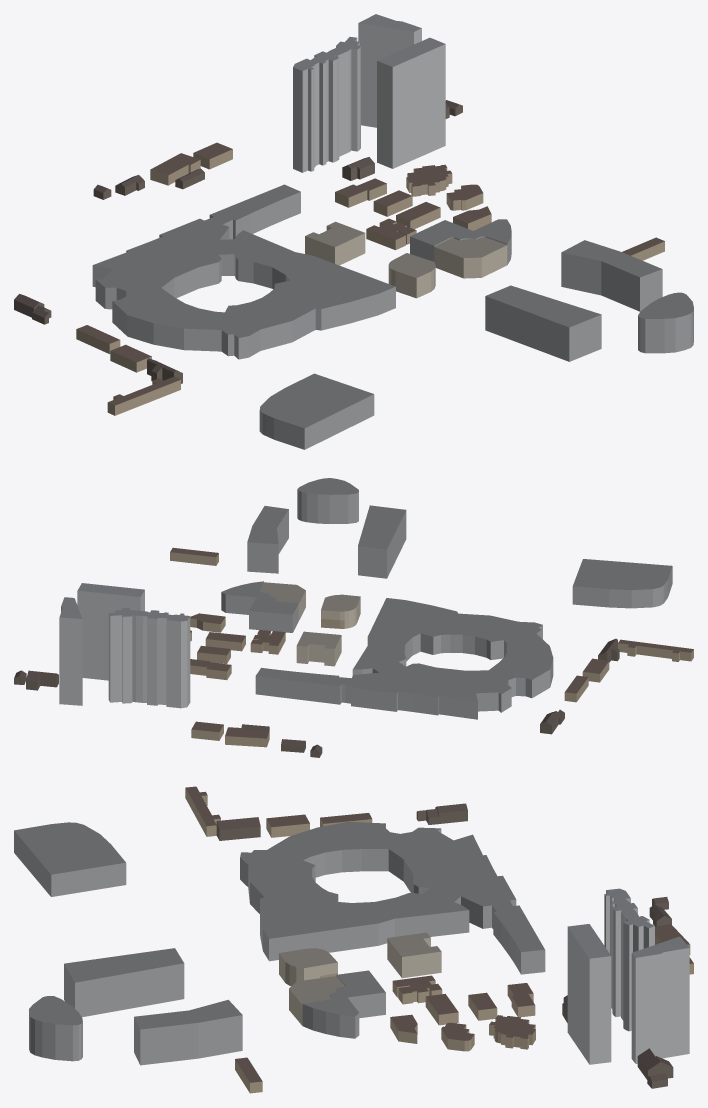
File: tile_2_3.glb
The picture shows the model from 3 angles, top to bottom: view 1: azimuth 30°, elevation 25°; view 2: azimuth 150°, elevation 25°; view 3: azimuth 270°, elevation 25°; orthographic projection. The views are drawn at different scales.
Parts seen in each view (by area): view 1: HP-r3920128, HP-w293397505, HP-w293397479, HP-w1209934029, HP-w293829715, HP-w1209934030, HP-w293398949, HP-w293414346, HP-w293023993, HP-w293397519, HP-w293397518, HP-w293397502 (+12 smaller); view 2: HP-r3920128, HP-w293397479, HP-w293829715, HP-w293397505, HP-w1209934029, HP-w293023993, HP-w293397518, HP-w293414346, HP-w1209934030, HP-w293397502, HP-w293398949, HP-w293397520 (+13 smaller); view 3: HP-r3920128, HP-w293414346, HP-w1209934029, HP-w293829715, HP-w293397505, HP-w1209934030, HP-w293398949, HP-w293397479, HP-w293397518, HP-w293023993, HP-w293397502, HP-w293397520 (+14 smaller).
Part boxes in pixels (x1,y1,x2,y2): HP-r3920128: [92, 184, 333, 359]; HP-w293397505: [377, 37, 445, 168]; HP-w293397479: [293, 37, 360, 172]; HP-w1209934029: [485, 285, 601, 361]; HP-w293829715: [259, 373, 374, 449]; HP-w1209934030: [561, 240, 662, 311]; HP-w293398949: [296, 252, 395, 330]; HP-w293414346: [358, 14, 421, 127]; HP-w293023993: [638, 292, 693, 353]; HP-w293397519: [434, 237, 507, 278]; HP-w293397518: [410, 219, 511, 264]; HP-w293397502: [305, 221, 365, 265]; HP-r3920128: [255, 611, 553, 719]; HP-w293397479: [108, 608, 190, 708]; HP-w293829715: [572, 559, 672, 608]; HP-w293397505: [77, 583, 144, 680]; HP-w1209934029: [358, 505, 406, 578]; HP-w293023993: [297, 478, 358, 523]; HP-w293397518: [221, 581, 298, 632]; HP-w293414346: [59, 597, 82, 705]; HP-w1209934030: [247, 506, 288, 573]; HP-w293397502: [296, 631, 341, 666]; HP-w293398949: [367, 598, 456, 645]; HP-w293397520: [321, 594, 360, 628]; HP-r3920128: [240, 822, 545, 974]; HP-w293414346: [631, 936, 689, 1063]; HP-w1209934029: [64, 948, 184, 1017]; HP-w293829715: [14, 822, 126, 896]; HP-w293397505: [567, 924, 611, 1064]; HP-w1209934030: [134, 999, 242, 1065]; HP-w293398949: [260, 899, 394, 961]; HP-w293397479: [604, 888, 654, 1031]; HP-w293397518: [302, 970, 385, 1038]; HP-w293023993: [29, 996, 82, 1061]; HP-w293397502: [387, 932, 441, 978]; HP-w293397520: [279, 948, 337, 986].
Bounding box in the file's own units: 539 × 90 × 523.
